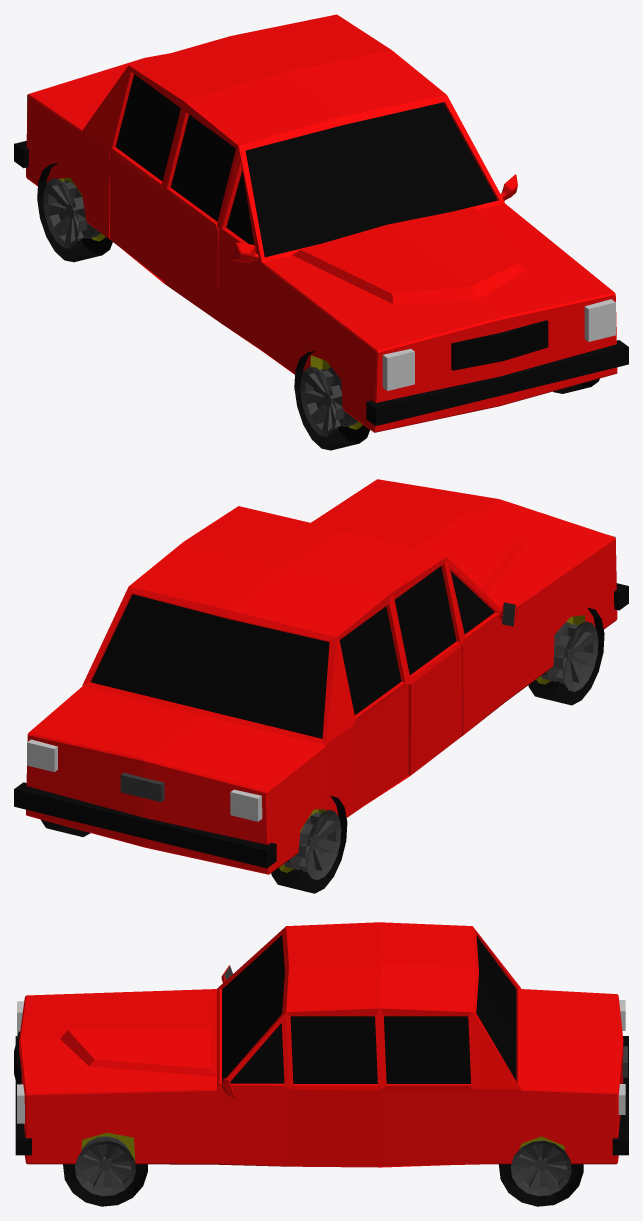
Rendered from car_2_red.obj.
3 views of the same model, one above another, from view 1: azimuth 30°, elevation 25°; view 2: azimuth 150°, elevation 25°; view 3: azimuth 270°, elevation 25° (orthographic). The views are drawn at different scales.
Visible parts, largest first — view 1: Cube.001; view 2: Cube.001; view 3: Cube.001.
Part boxes in pixels (x1=…): Cube.001: x1=14, y1=14, x2=628, y2=450; Cube.001: x1=14, y1=479, x2=628, y2=893; Cube.001: x1=14, y1=922, x2=628, y2=1206.
Size of the model in its own units: 1.51 by 1.14 by 3.36.
